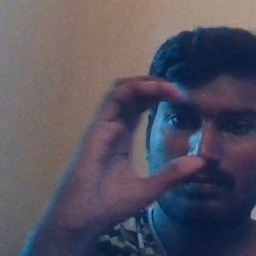C: (99, 70, 214, 202)
